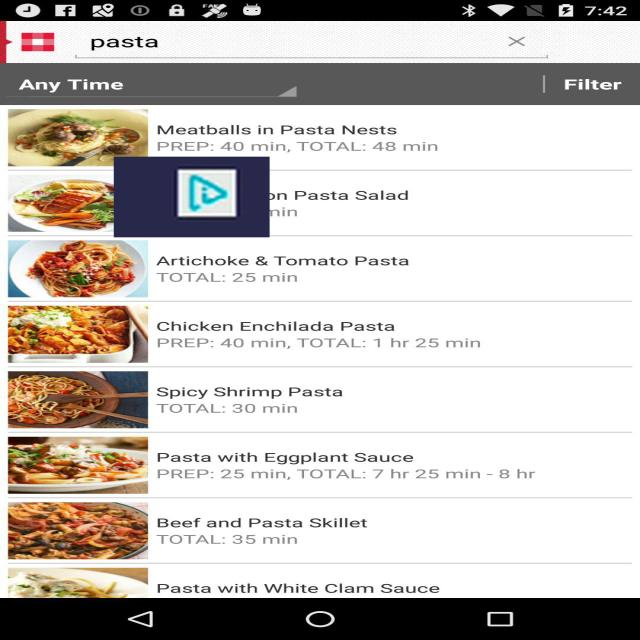sneaking: (113, 157, 270, 237)
